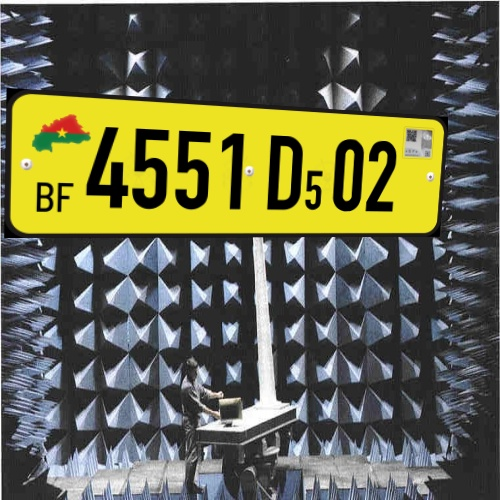plate: (3, 80, 455, 261)
